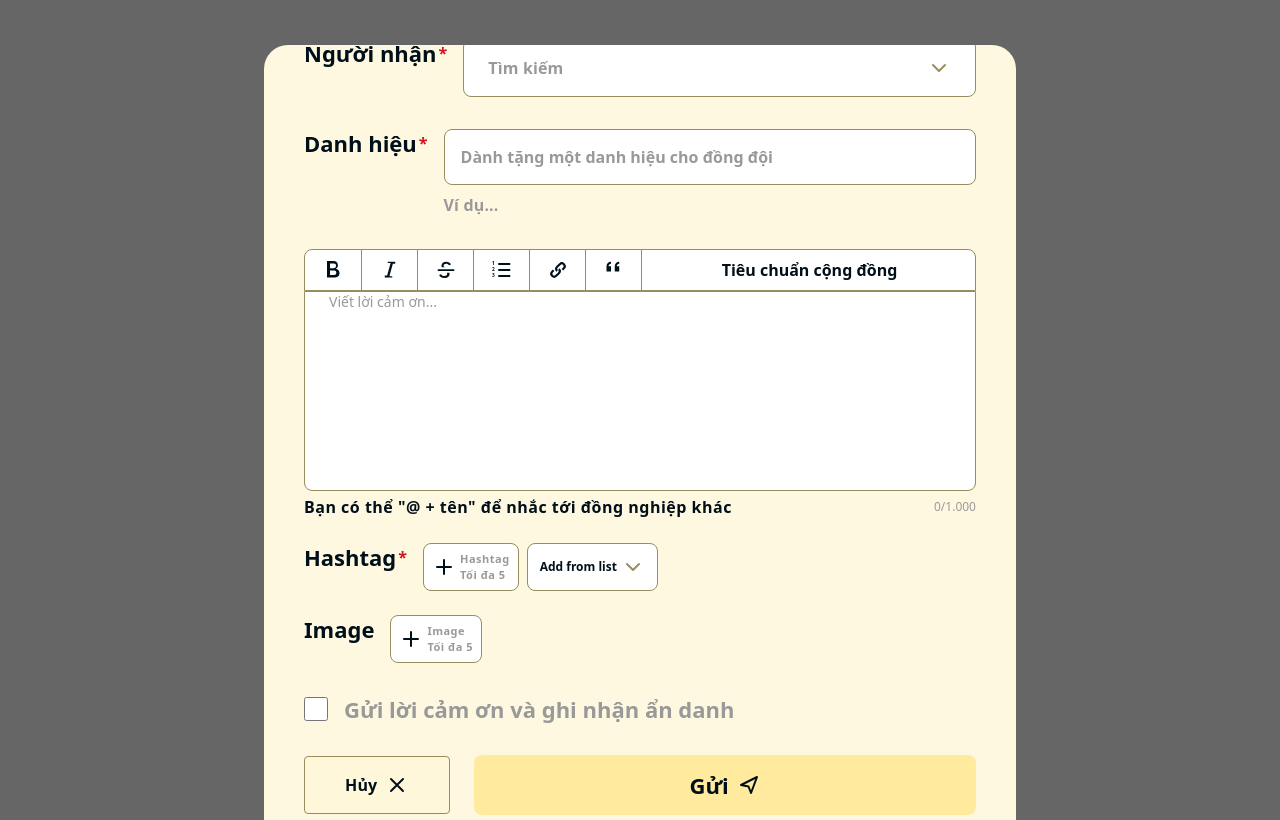
Scenario: ComposeDialog › clears a field's inline error as soon as its value changes, without waiting for re-submit
(page scrolled)
Step 1. Click the button "Gửi" → (725, 785), box [474,755,976,815]
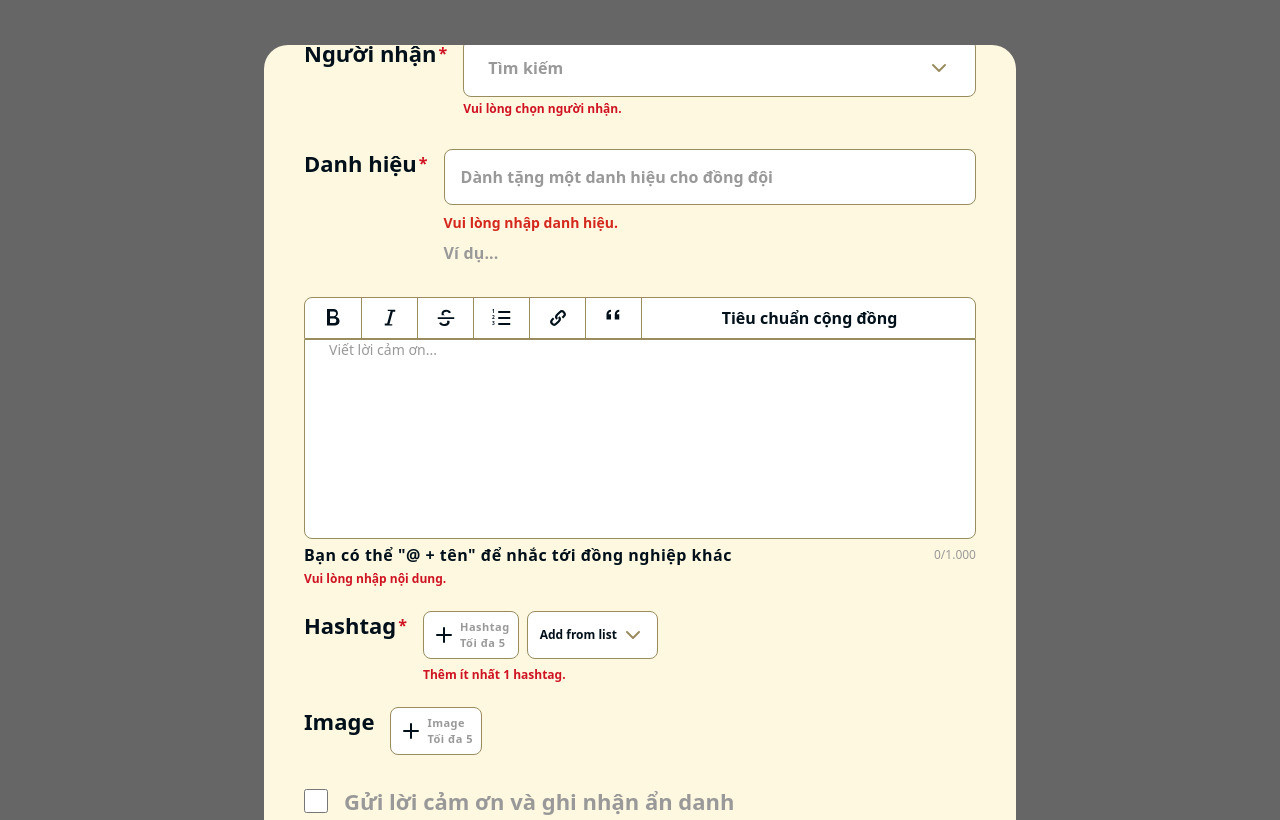
expect the text "Vui lòng nhập danh hiệu." is shown: met, box [444,213,618,232]
Step 2. Type "X" into the field with placeholder "Dành tặng một danh hiệu cho đồng đội" → (710, 177), box [444,149,976,205]
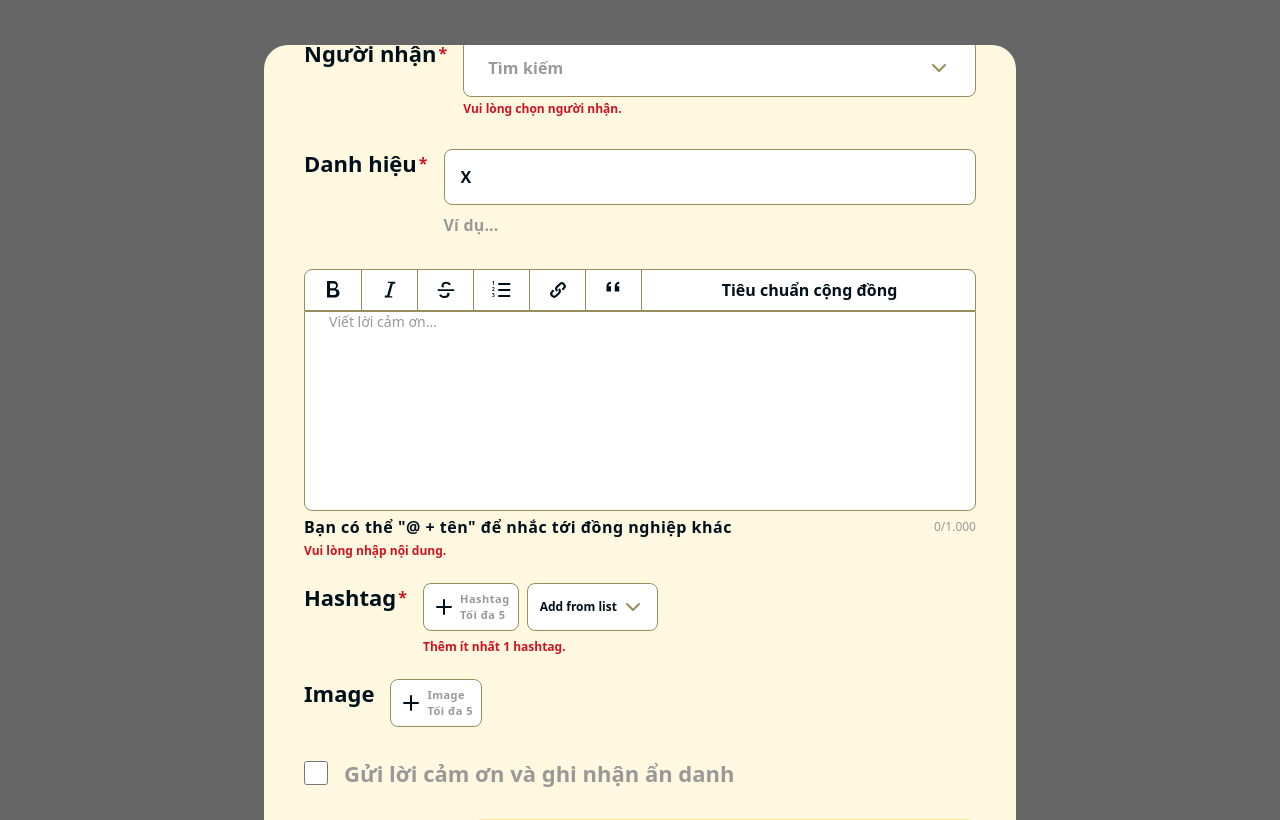
expect the text "Vui lòng nhập nội dung." is shown: met, box [304,542,446,559]
expect the text "Vui lòng nhập danh hiệu." is gone: met
